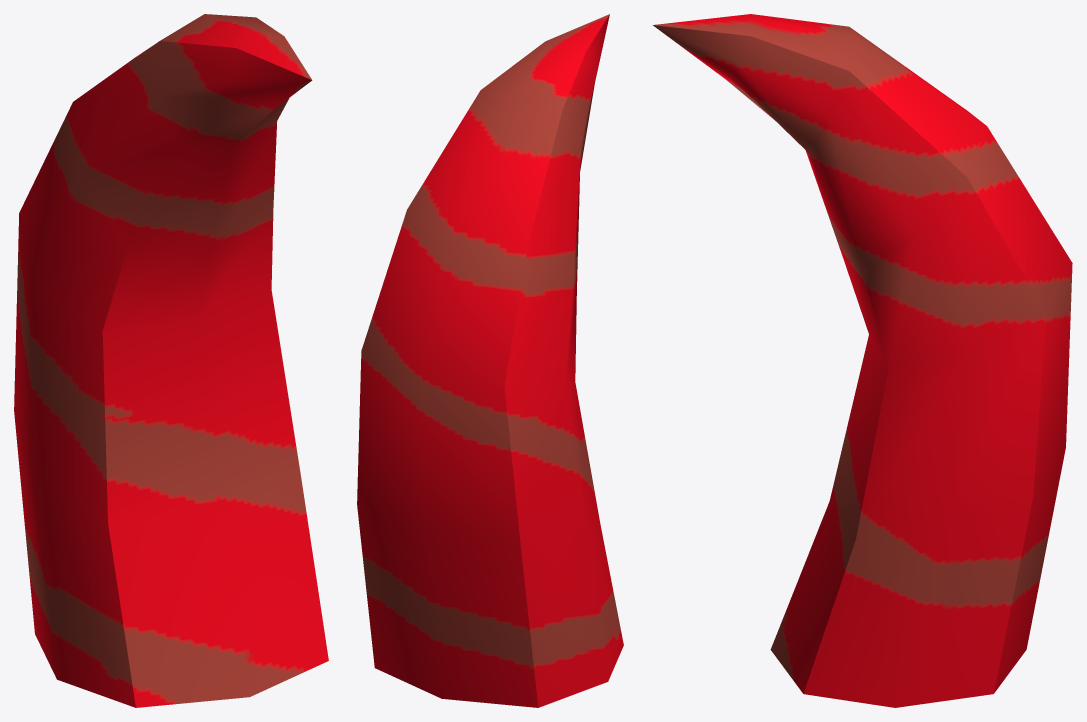
The model's file is GGJ_Horn.fbx.
The picture shows the model from 3 angles, left to right: view 1: azimuth 30°, elevation 25°; view 2: azimuth 150°, elevation 25°; view 3: azimuth 270°, elevation 25°; orthographic projection. The views are drawn at different scales.
Visible parts, largest first — view 1: Horn; view 2: Horn; view 3: Horn.
Boxes of the visible parts, <box> form: Horn: <box>14,14,328,707</box>; Horn: <box>357,14,623,707</box>; Horn: <box>653,14,1072,707</box>.
Size of the model in its own units: 260 by 657 by 397.
Materials: 1 (1 with a texture image).
